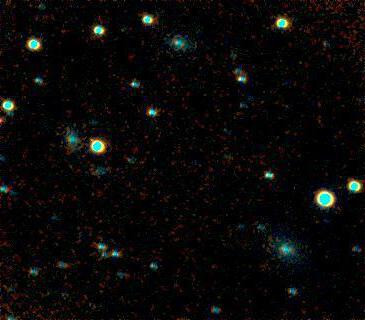star: (76, 125, 106, 155)
